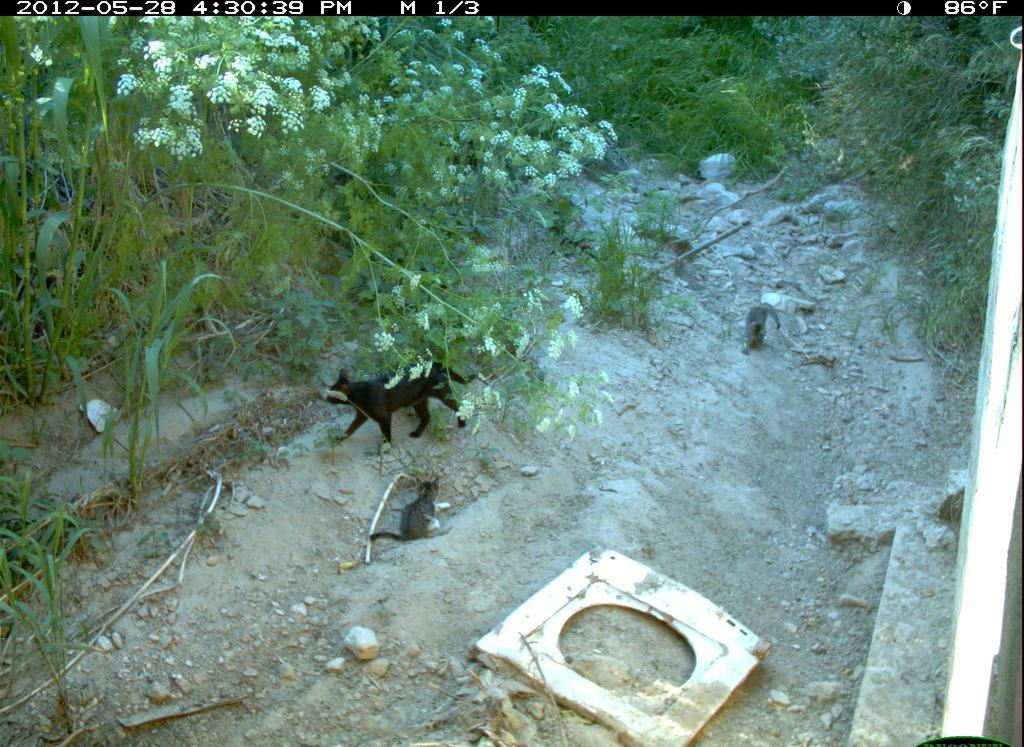cat: (319, 354, 483, 455), (361, 473, 456, 550), (738, 294, 785, 365)
